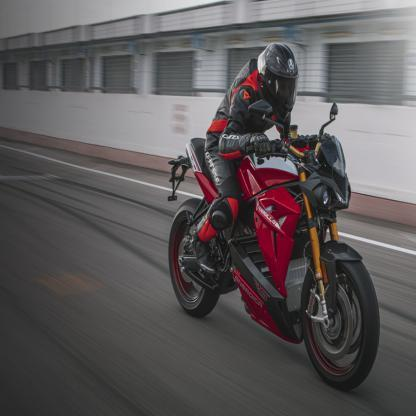helmet: (257, 42, 299, 113)
